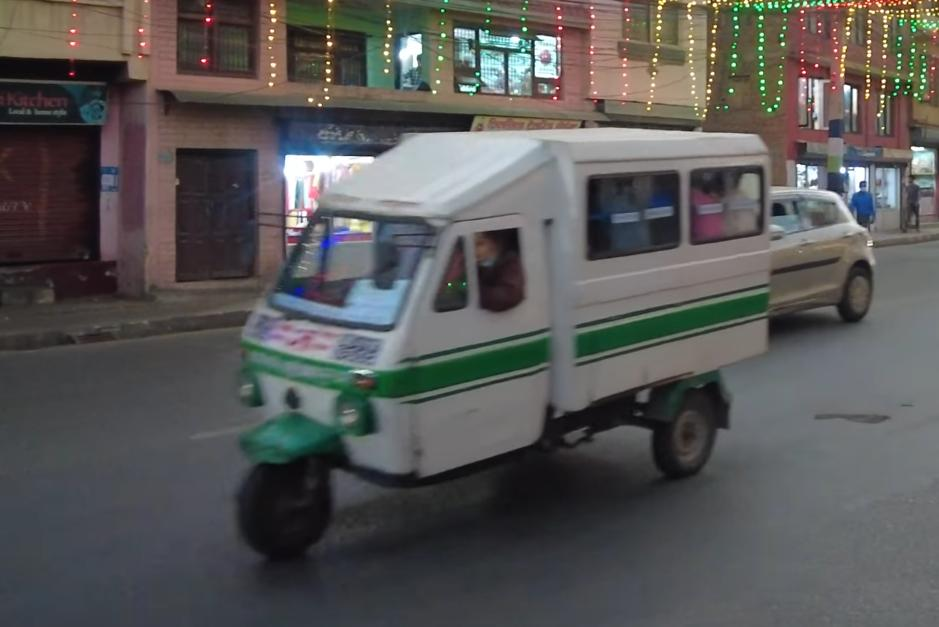car: (757, 183, 877, 334)
tempo: (236, 109, 785, 563)
